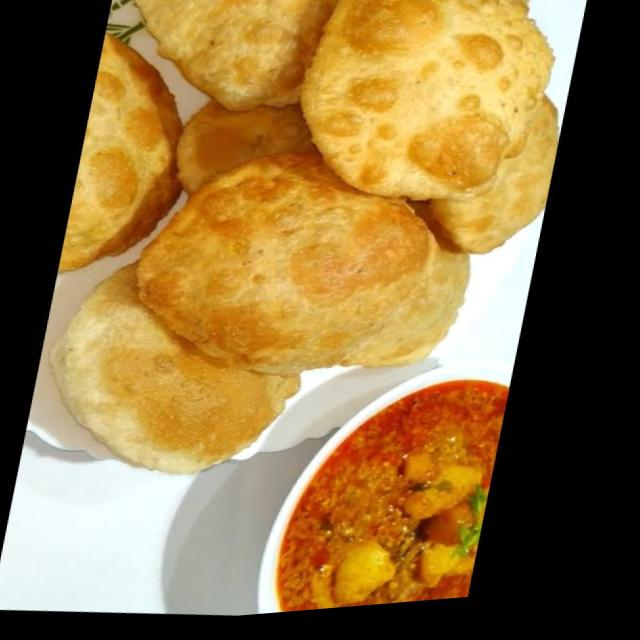CURRY: (276, 380, 510, 612)
POORI: (47, 0, 560, 475)
